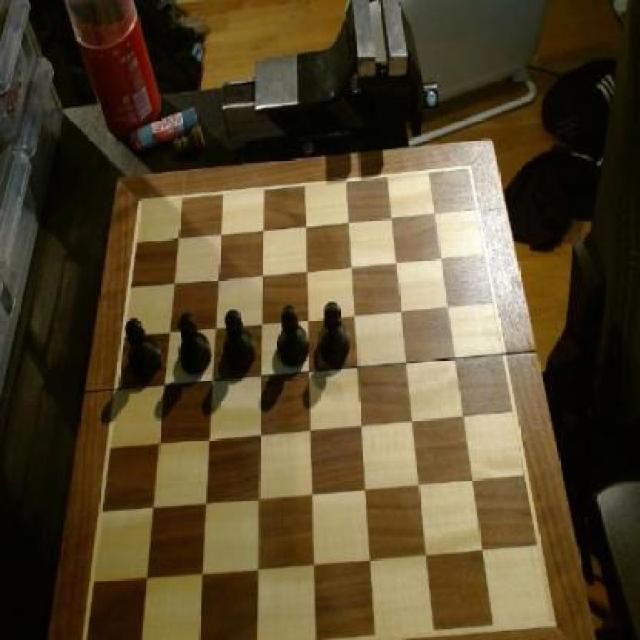black-knight: (123, 317, 163, 388), (174, 311, 211, 376), (317, 299, 352, 366), (222, 308, 258, 373), (277, 302, 312, 368)
